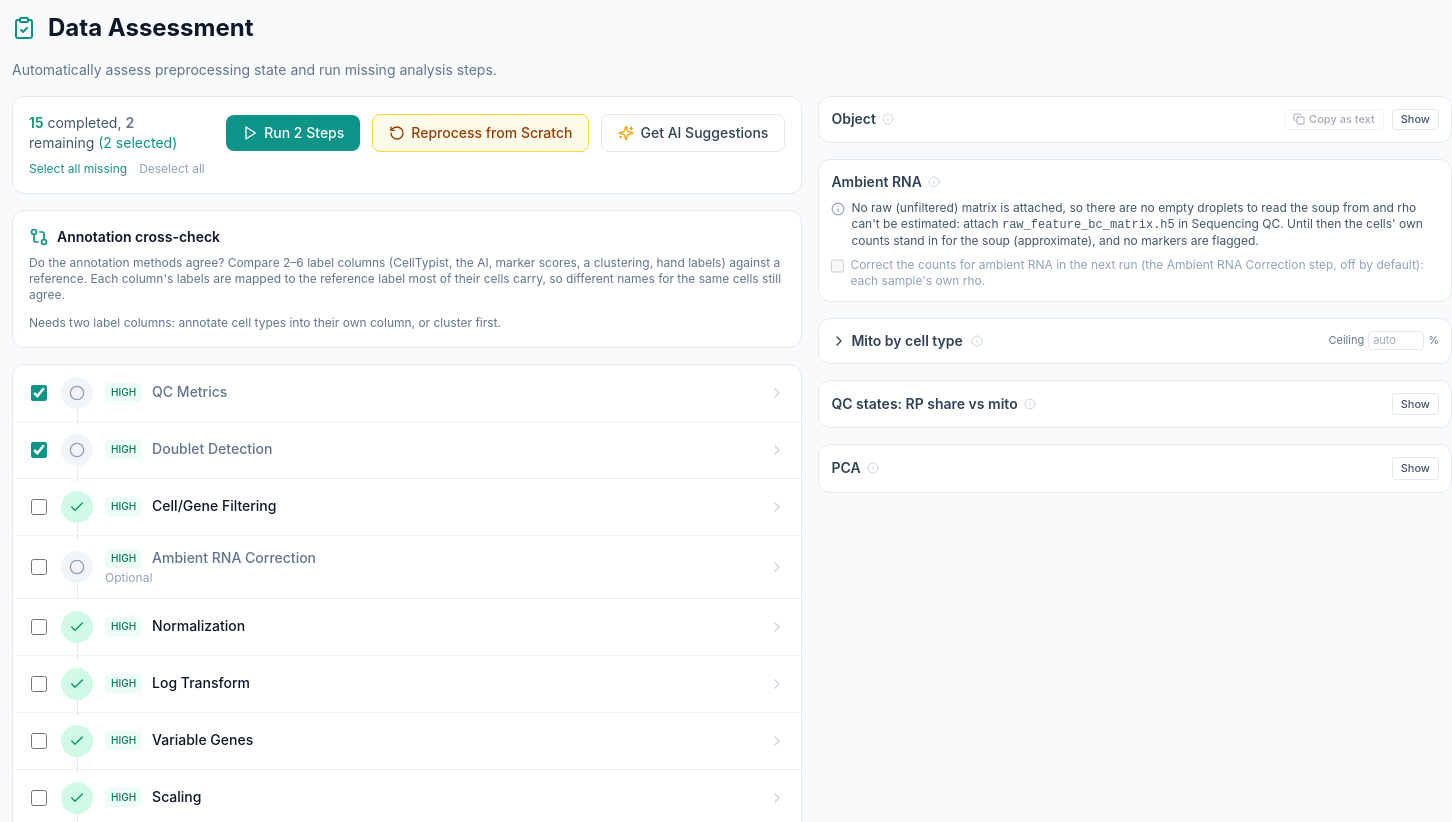
Test: DataAssessmentPanel run progress: watchdog, Cancel, outcome › says a run stopped before a step, and that the steps done were not saved
Step 1. Click the button "Run 2 Steps" → (293,133), box [226,115,360,151]
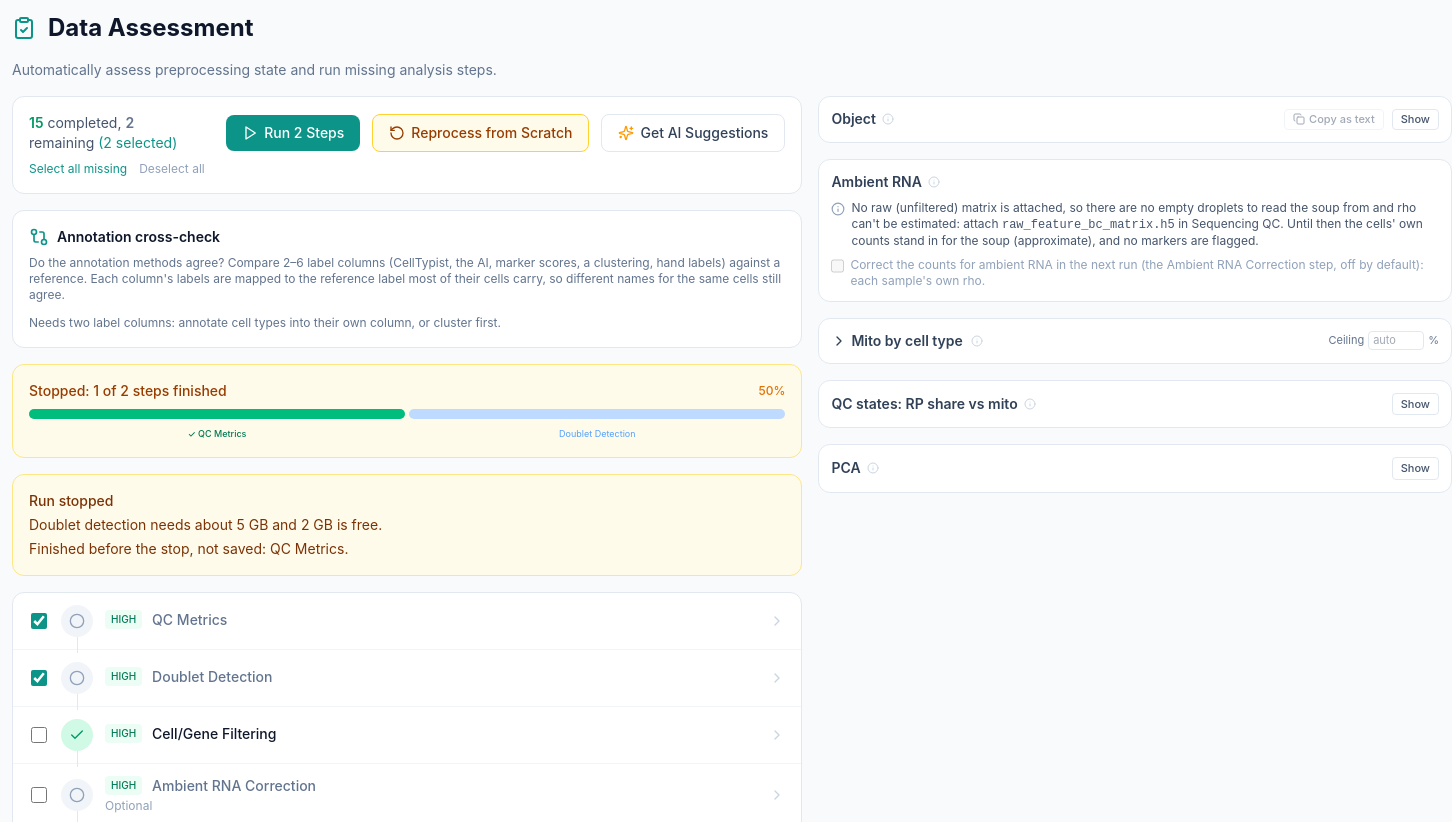
Expected: the text "Run stopped" is shown, [29,492,114,508]
Expected: the text "Doublet detection needs about 5 GB and 2 GB is free." is shown, [29,516,382,532]
Expected: the text "Finished before the stop, not saved: QC Metrics." is shown, [29,540,348,556]
